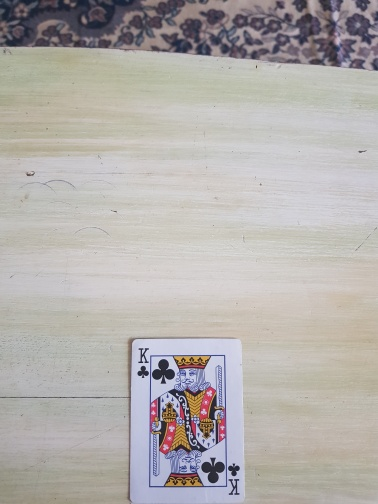king: (128, 337, 246, 504)
